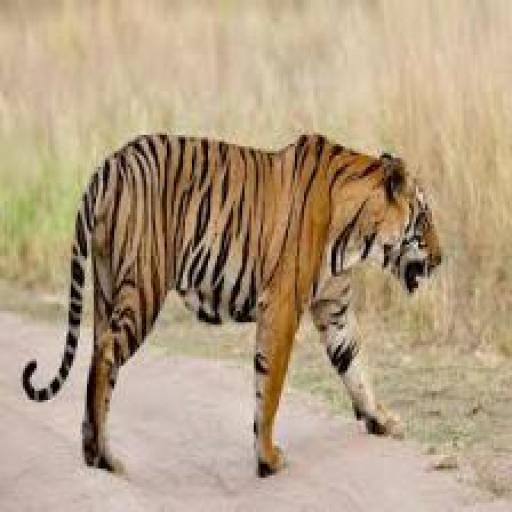Tiger: (24, 135, 442, 476)
